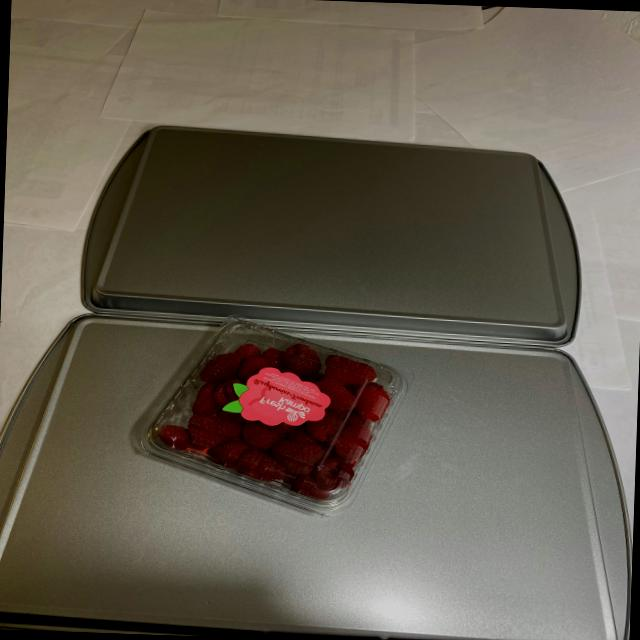raspberries: (152, 340, 390, 489)
